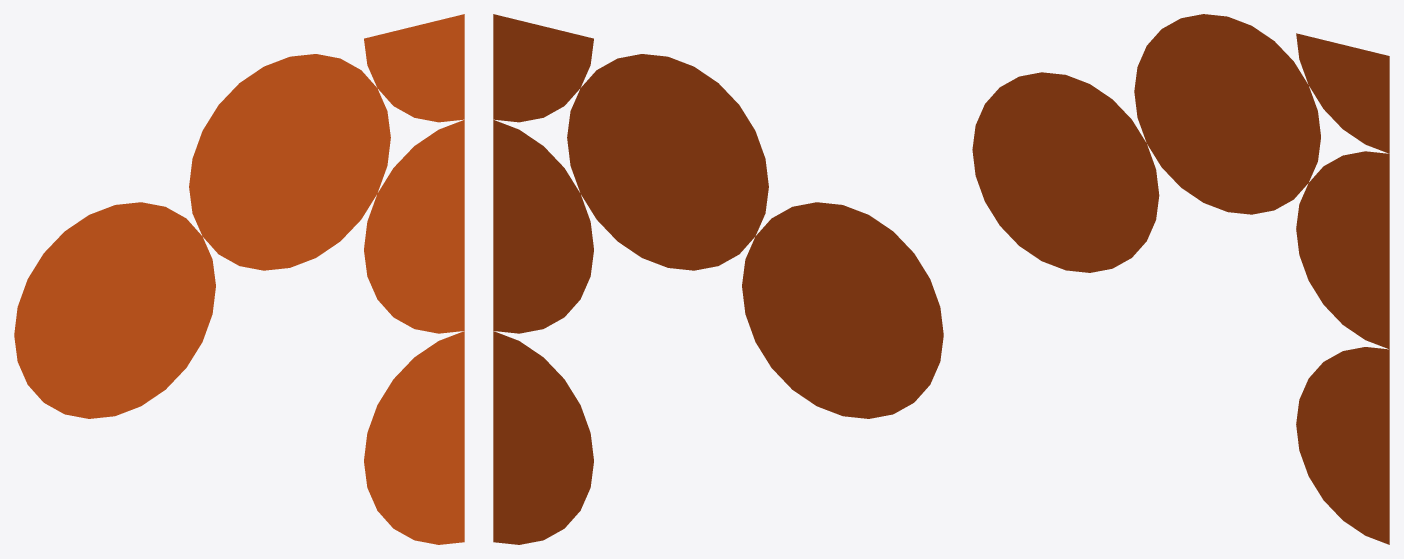
File: fruitD.obj
3 views of the same model, side by side, from view 1: azimuth 30°, elevation 25°; view 2: azimuth 150°, elevation 25°; view 3: azimuth 330°, elevation 25° (orthographic). The views are drawn at different scales.
Size of the model in its own units: 0.4994 by 0.5594 by 0.
